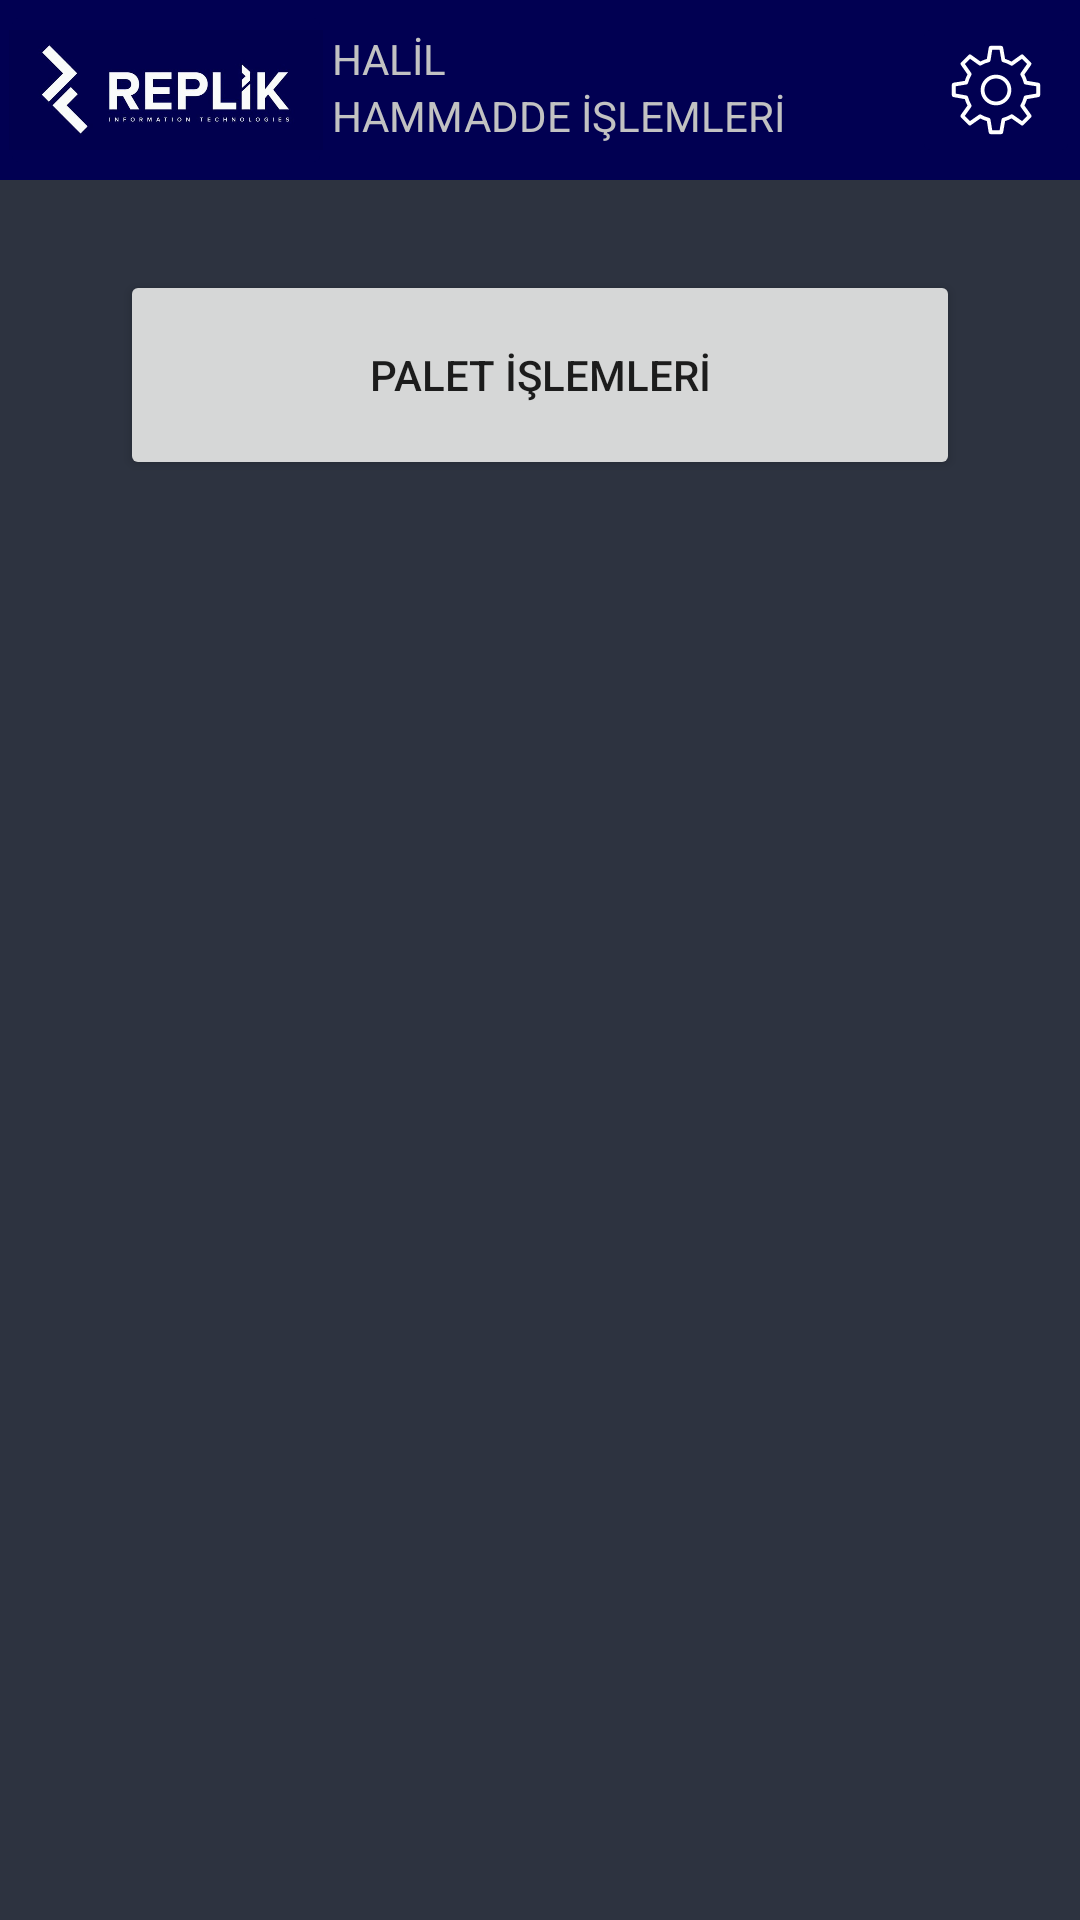

Icon click points for this 1080 × 1920 phone screenshot, format (x=x, y=y):
settings: (x=996, y=90)
